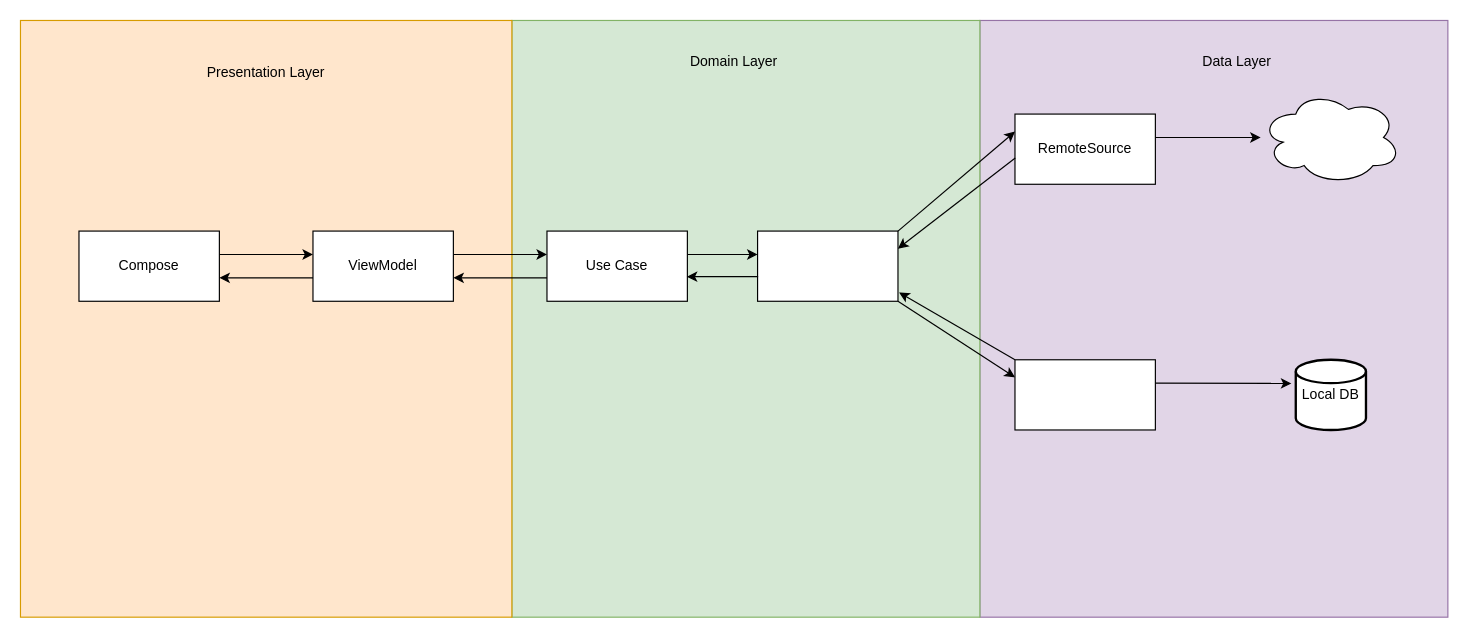
The diagram is 1468 pixels wide and 638 high, and some of its shapes have lost their labels. Each missing label, with the centre of its shape:
"API" goes at pixel 1330 137.
"LocalSource" goes at pixel 1084 394.
"Repository" goes at pixel 827 265.
